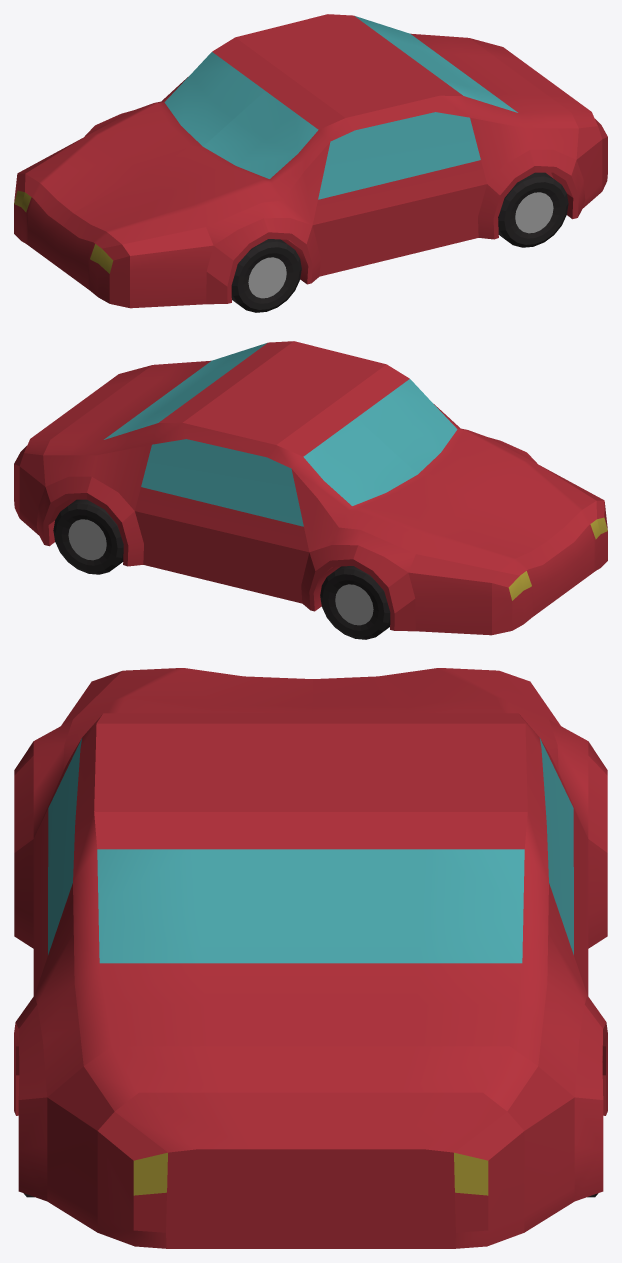
File: bil.fbx
The picture shows the model from 3 angles, top to bottom: view 1: azimuth 30°, elevation 25°; view 2: azimuth 150°, elevation 25°; view 3: azimuth 270°, elevation 25°; orthographic projection. The views are drawn at different scales.
Visible parts, largest first — view 1: Bil; view 2: Bil; view 3: Bil.
Part boxes in pixels (<box>): Bil: <box>14,14,607,312</box>; Bil: <box>14,341,607,639</box>; Bil: <box>14,668,607,1248</box>.
Size of the model in its own units: 1333 by 395 by 696.
